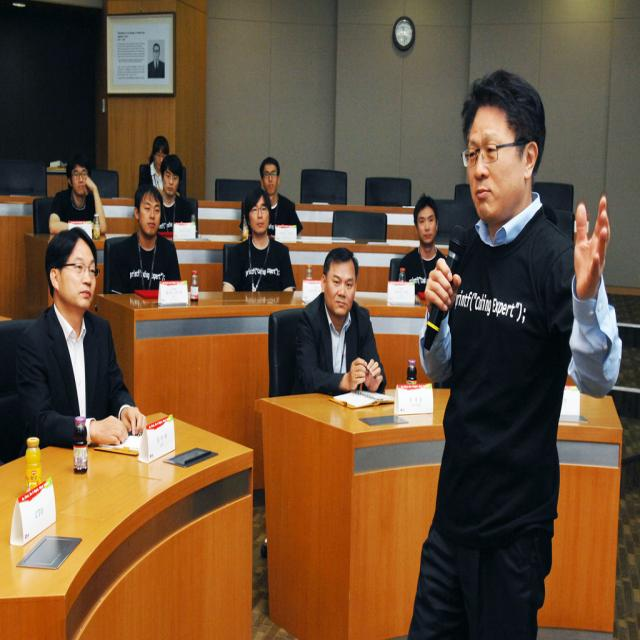chair: (268, 304, 312, 396), (299, 168, 349, 205), (332, 208, 388, 240), (363, 176, 412, 206), (33, 196, 55, 233), (90, 169, 118, 197)
desk: (256, 384, 624, 640), (0, 389, 254, 631)
person: (410, 66, 621, 634), (14, 227, 148, 452), (288, 246, 388, 395), (105, 184, 181, 293), (222, 187, 296, 293), (392, 194, 452, 284), (50, 152, 107, 238), (250, 155, 304, 236), (156, 152, 198, 231), (136, 134, 171, 197)
